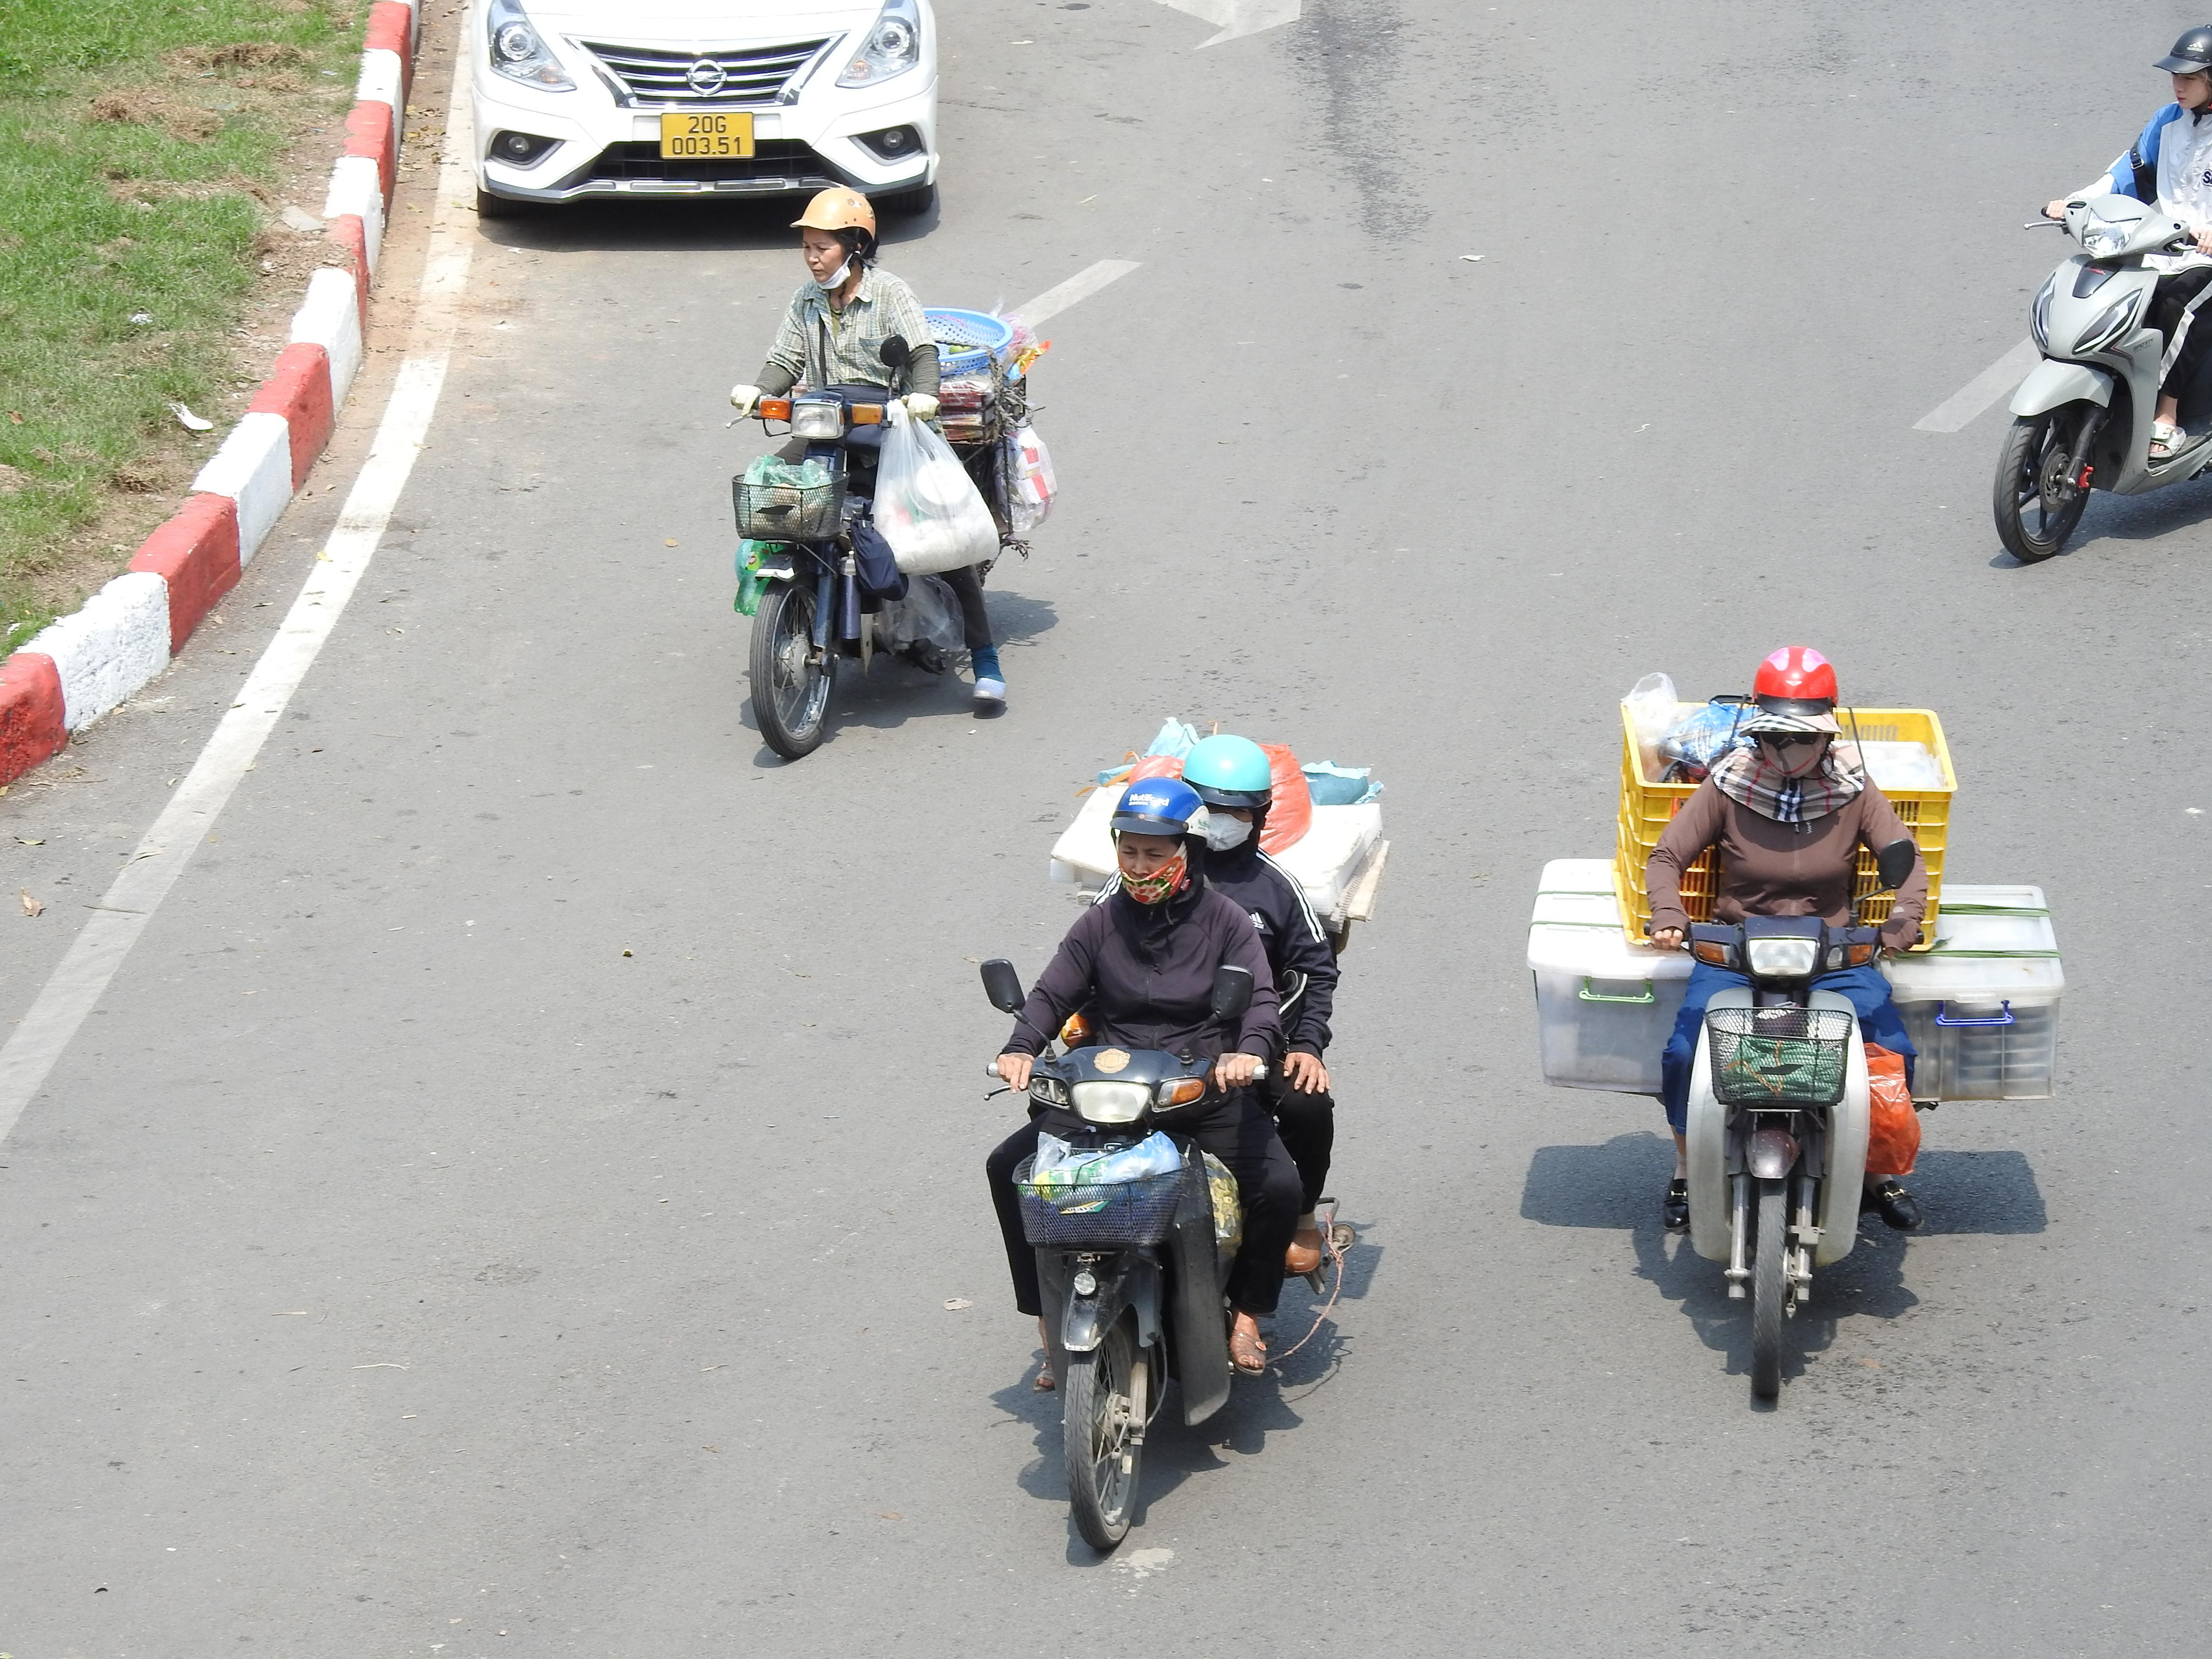BSV: (660, 112, 754, 160)
car: (451, 0, 956, 223)
motorbike: (977, 728, 1383, 1561), (1611, 645, 1942, 1408), (730, 186, 1024, 763), (1991, 16, 2212, 566)
